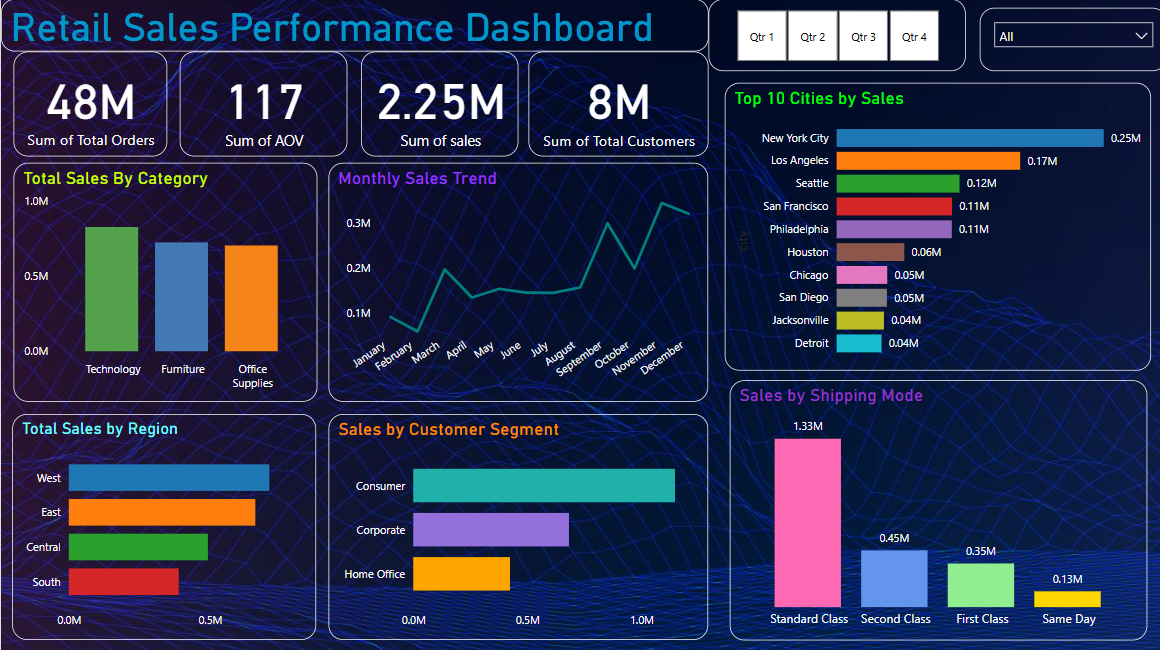

The page's visual inventory and layout, read from the dashboard file:
{"tool":"powerbi","page":{"name":"Page 1","canvas":[1280,720],"ordinal":0},"visuals":[{"type":"clusteredColumnChart","title":"Total Sales By Category","fields":{"Category":["cleaned_train.category"],"Y":["cleaned_train.sales"]},"box":[13.7,179.8,333.4,262.1],"z":0},{"type":"textbox","title":"Retail Sales Performance Dashboard","box":[0,0,776.7,57.6],"z":1000},{"type":"barChart","title":"Total Sales by Region","fields":{"Category":["cleaned_train.region"],"Y":["cleaned_train.sales"]},"box":[12.3,455.6,333.4,248.4],"z":2000},{"type":"lineChart","title":"Monthly Sales Trend","fields":{"Y":["cleaned_train.sales"],"Category":["cleaned_train.order_date.Variation.Date Hierarchy.Month"]},"box":[359.5,179.8,417.2,262.1],"z":3000},{"type":"clusteredBarChart","title":"Sales by Customer Segment","fields":{"Category":["cleaned_train.segment"],"Y":["cleaned_train.sales"]},"box":[359.5,455.6,417.2,248.4],"z":4000},{"type":"barChart","title":"Top 10 Cities by Sales ","fields":{"Y":["cleaned_train.sales"],"Category":["cleaned_train.city"]},"box":[794.5,91.9,467.9,315.6],"z":5000},{"type":"columnChart","title":"Sales by Shipping Mode","fields":{"Y":["cleaned_train.sales"],"Category":["cleaned_train.ship_mode"]},"box":[800,418.5,458.3,285.4],"z":6000},{"type":"card","fields":{"Values":["cleaned_train.Total Orders"]},"box":[13.7,57.6,168.8,115.3],"z":7000},{"type":"card","fields":{"Values":["cleaned_train.AOV"]},"box":[196.2,57.6,183.9,115.3],"z":8000},{"type":"card","fields":{"Values":["cleaned_train.sales"]},"box":[395.2,57.6,172.9,115.3],"z":9000},{"type":"card","fields":{"Values":["cleaned_train.Total Customers"]},"box":[579.1,57.6,197.6,115.3],"z":10000},{"type":"slicer","fields":{"Values":["cleaned_train.order_date.Variation.Date Hierarchy.Year","cleaned_train.order_date.Variation.Date Hierarchy.Quarter","cleaned_train.order_date.Variation.Date Hierarchy.Month","cleaned_train.order_date.Variation.Date Hierarchy.Day"]},"box":[1059.4,5.5,205.8,70],"z":10002},{"type":"slicer","fields":{"Values":["cleaned_train.order_date.Variation.Date Hierarchy.Quarter"]},"box":[776.7,0,282.7,79.6],"z":10003}]}

Visuals, with their boxes in screenshot pixels (x1, y1, x2, y2), scaled from the page's 1280x720 canvas onto the 1160x650 screenshot:
"Total Sales By Category" clusteredColumnChart: bbox(12, 162, 315, 399)
"Retail Sales Performance Dashboard" textbox: bbox(0, 0, 704, 52)
"Total Sales by Region" barChart: bbox(11, 411, 313, 636)
"Monthly Sales Trend" lineChart: bbox(326, 162, 704, 399)
"Sales by Customer Segment" clusteredBarChart: bbox(326, 411, 704, 636)
"Top 10 Cities by Sales " barChart: bbox(720, 83, 1144, 368)
"Sales by Shipping Mode" columnChart: bbox(725, 378, 1140, 635)
card - cleaned_train.Total Orders: bbox(12, 52, 165, 156)
card - cleaned_train.AOV: bbox(178, 52, 344, 156)
card - cleaned_train.sales: bbox(358, 52, 515, 156)
card - cleaned_train.Total Customers: bbox(525, 52, 704, 156)
slicer - cleaned_train.order_date.Variation.Date Hierarchy.Year x cleaned_train.order_date.Variation.Date Hierarchy.Quarter: bbox(960, 5, 1147, 68)
slicer - cleaned_train.order_date.Variation.Date Hierarchy.Quarter: bbox(704, 0, 960, 72)
